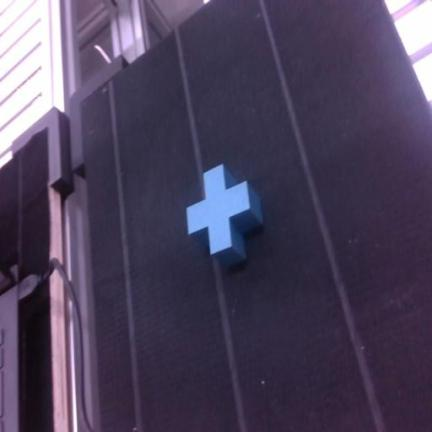cross: (187, 165, 262, 266)
